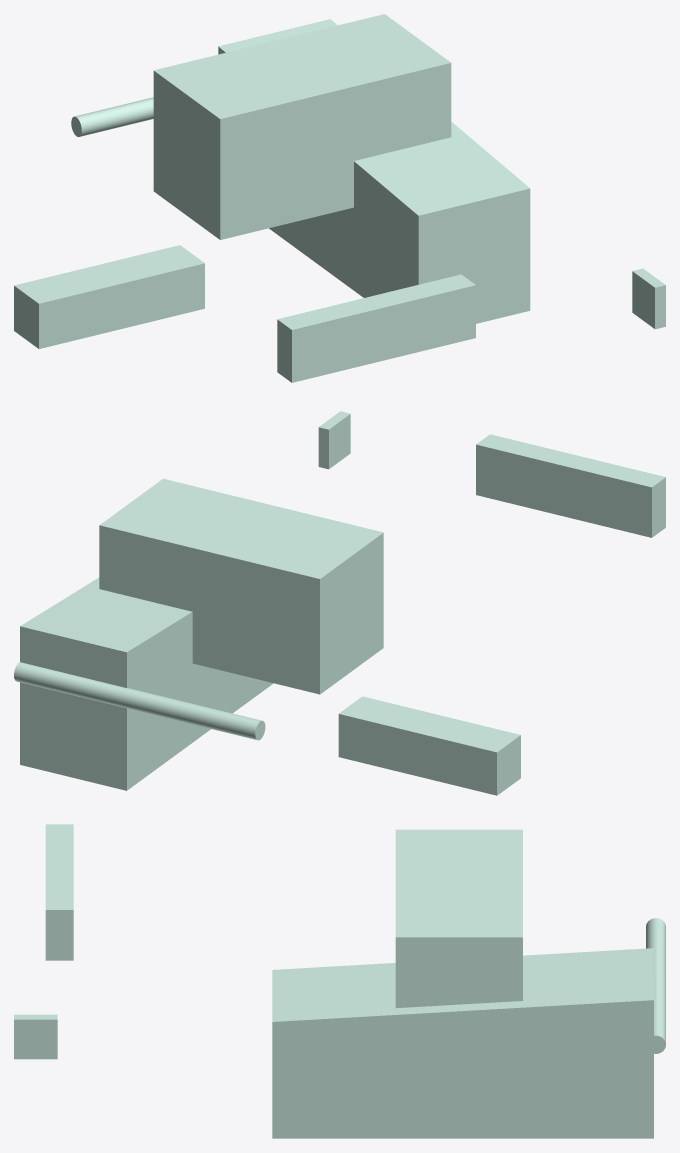
3 views of the same model, one above another, from view 1: azimuth 30°, elevation 25°; view 2: azimuth 150°, elevation 25°; view 3: azimuth 270°, elevation 25° (orthographic). The views are drawn at different scales.
Visible parts, largest first — view 1: Renderer Node; view 2: Renderer Node; view 3: Renderer Node.
Boxes of the visible parts, x1,y1,x2,y2 form: Renderer Node: (14,14,665,382); Renderer Node: (14,411,665,795); Renderer Node: (14,824,665,1138).
Bounding box in the file's own units: 0.8828 × 0.4219 × 1.28.
